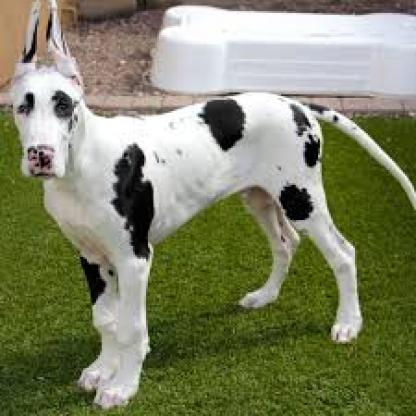Great Dane: (2, 0, 416, 409)
